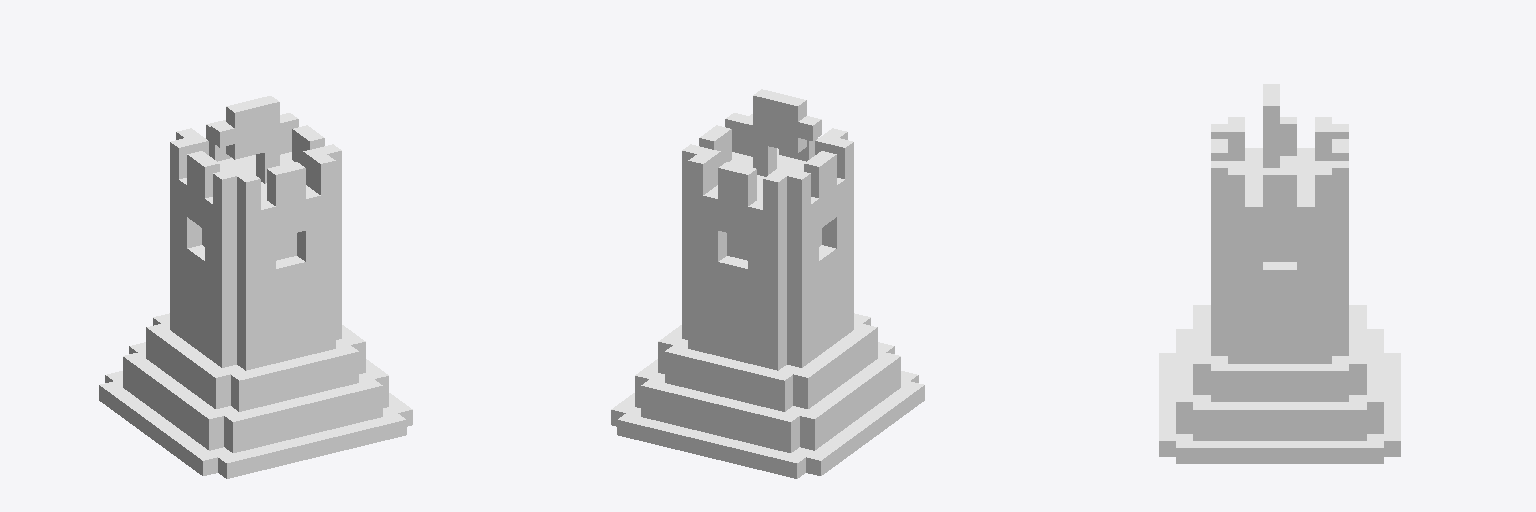
Rendered from PlayerTower.obj.
The picture shows the model from 3 angles: view 1: azimuth 30°, elevation 25°; view 2: azimuth 150°, elevation 25°; view 3: azimuth 270°, elevation 25°; orthographic projection.
Parts seen in each view (by area): view 1: PlayerTower; view 2: PlayerTower; view 3: PlayerTower.
Boxes of the visible parts, x1=… form: PlayerTower: x1=99, y1=96, x2=412, y2=478; PlayerTower: x1=611, y1=89, x2=924, y2=478; PlayerTower: x1=1159, y1=84, x2=1400, y2=463.
Bounding box in the file's own units: 14 × 20 × 14.